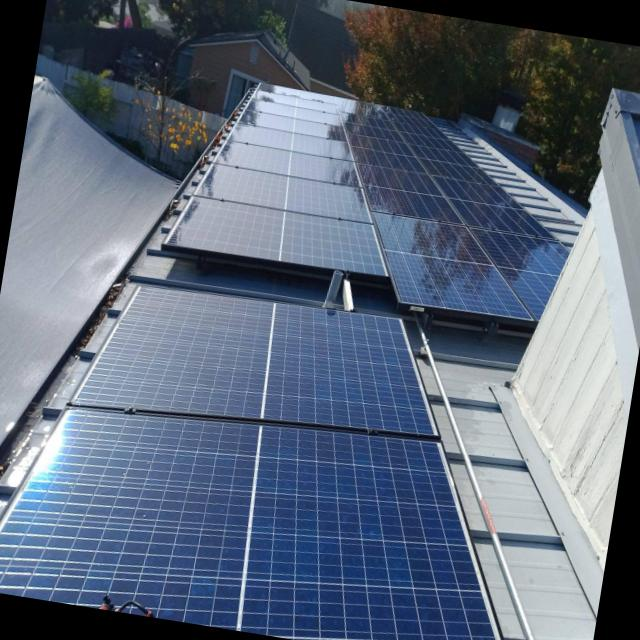no faulty: (0, 276, 493, 640), (167, 87, 552, 317)
